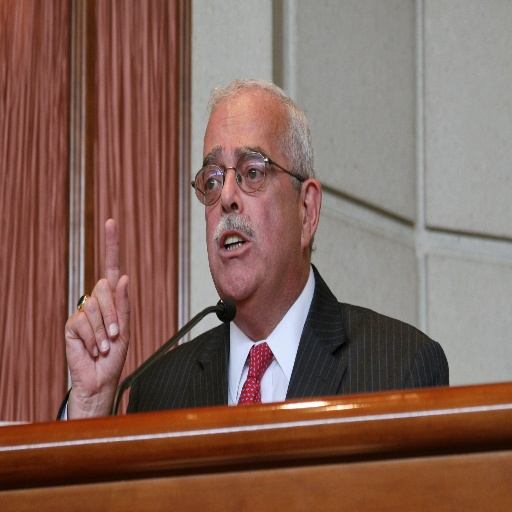hand: (64, 217, 131, 391)
